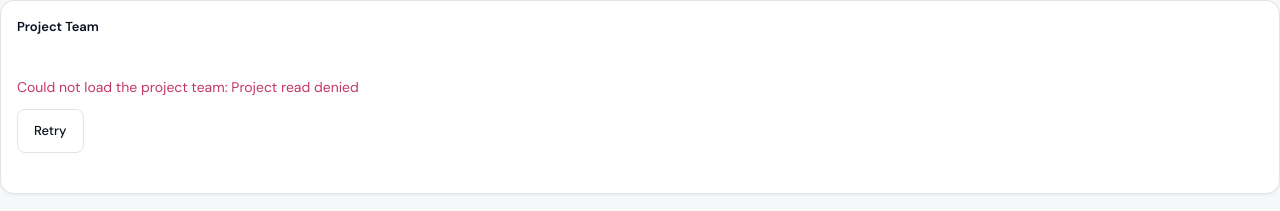
Test case: project team read › shows a forced select error and recovers on retry
The width and height of the screenshot is (1280, 211).
Expected: the message shows "Project read denied", [231,78,359,96]
Click the button "Retry".
click(50, 130)  # box [17,108,84,152]
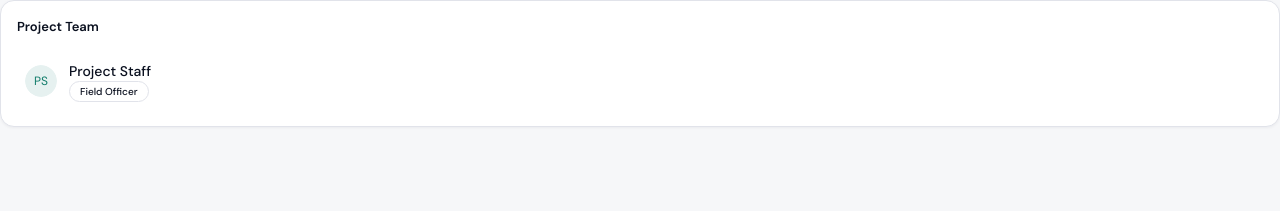
Now the text "Project Staff" is shown, box [69,62,151,80]
